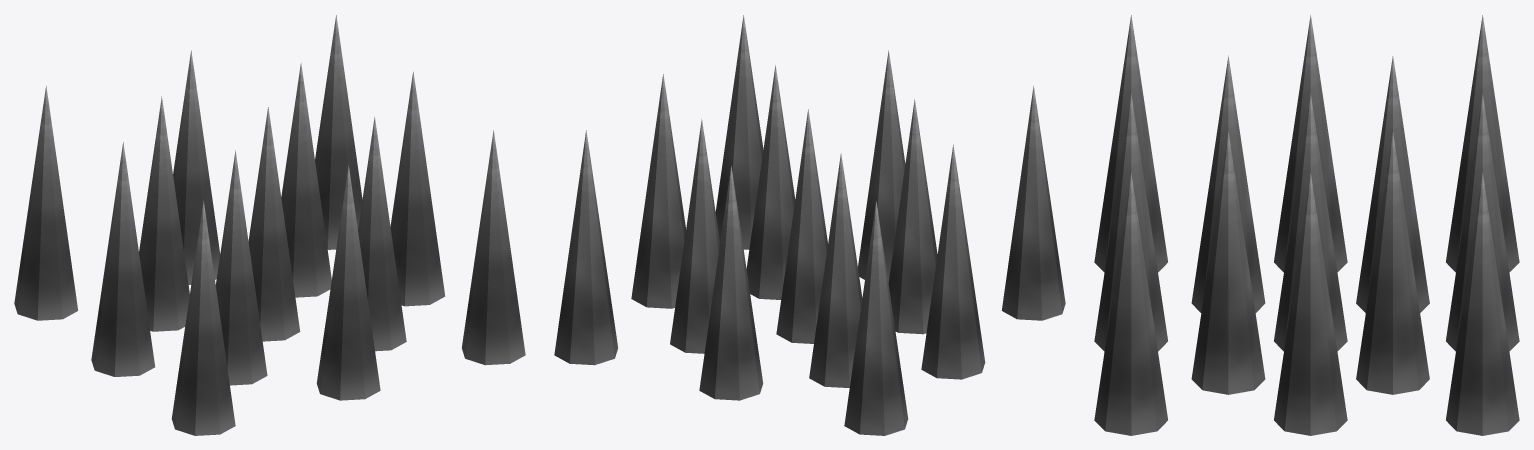
The model's file is Spike (1).fbx.
3 views of the same model, side by side, from view 1: azimuth 30°, elevation 25°; view 2: azimuth 150°, elevation 25°; view 3: azimuth 270°, elevation 25° (orthographic). The views are drawn at different scales.
Visible parts, largest first — view 1: polySurface14; view 2: polySurface14; view 3: polySurface14.
Part boxes in pixels (x1=…): polySurface14: x1=14, y1=15, x2=525, y2=435; polySurface14: x1=554, y1=15, x2=1065, y2=435; polySurface14: x1=1094, y1=15, x2=1519, y2=435.
Bounding box in the file's own units: 59.88 × 36.66 × 56.88.
